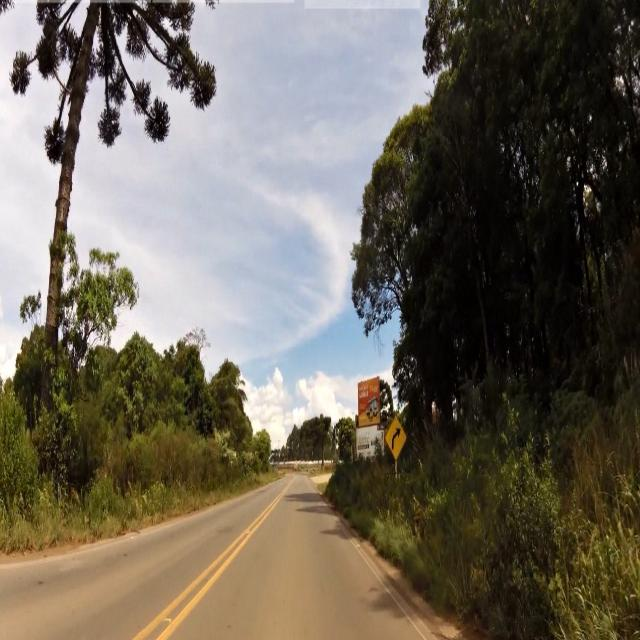A-2b: (385, 415, 408, 462)
